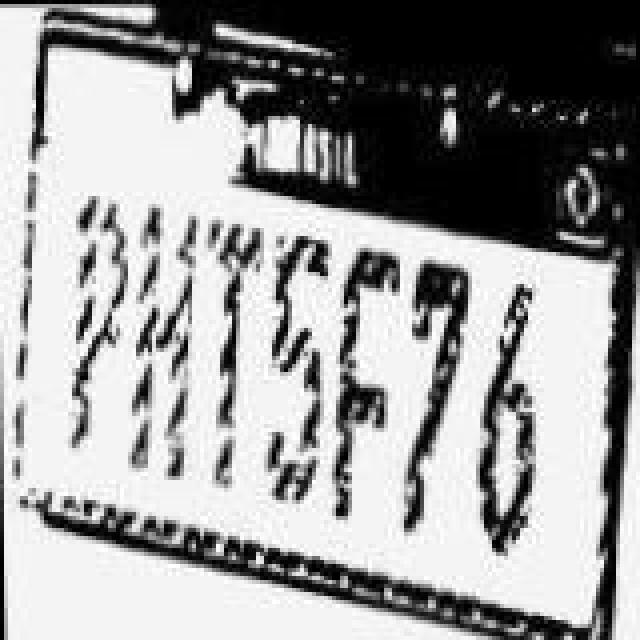5: (258, 236, 334, 508)
6: (474, 276, 554, 552)
7: (390, 260, 478, 532)
F: (330, 248, 410, 528)
H: (128, 188, 208, 476)
P: (64, 188, 128, 464)
T: (204, 212, 268, 500)
